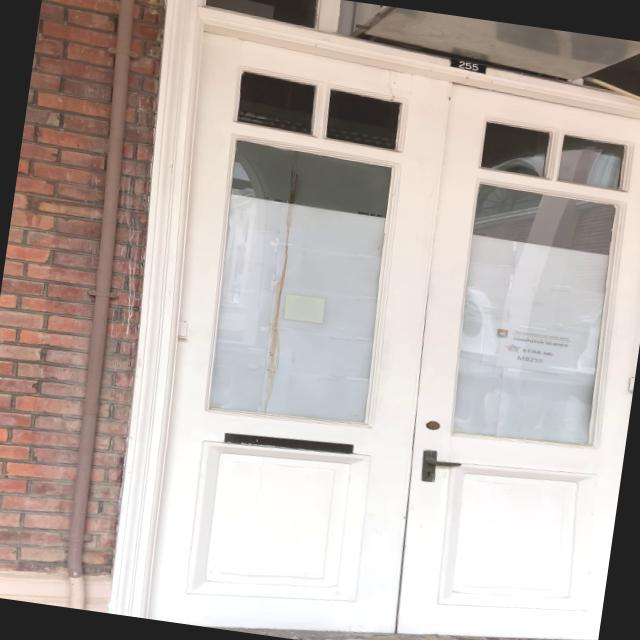room255: (445, 55, 490, 73)
